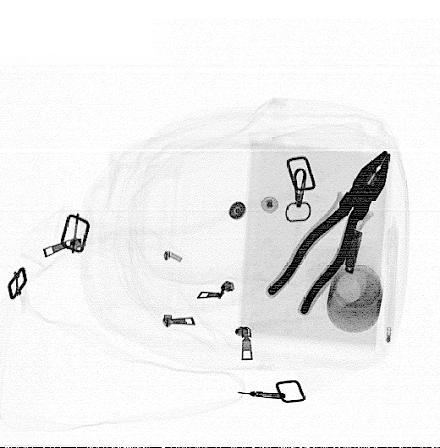Pliers: (263, 147, 392, 318)
